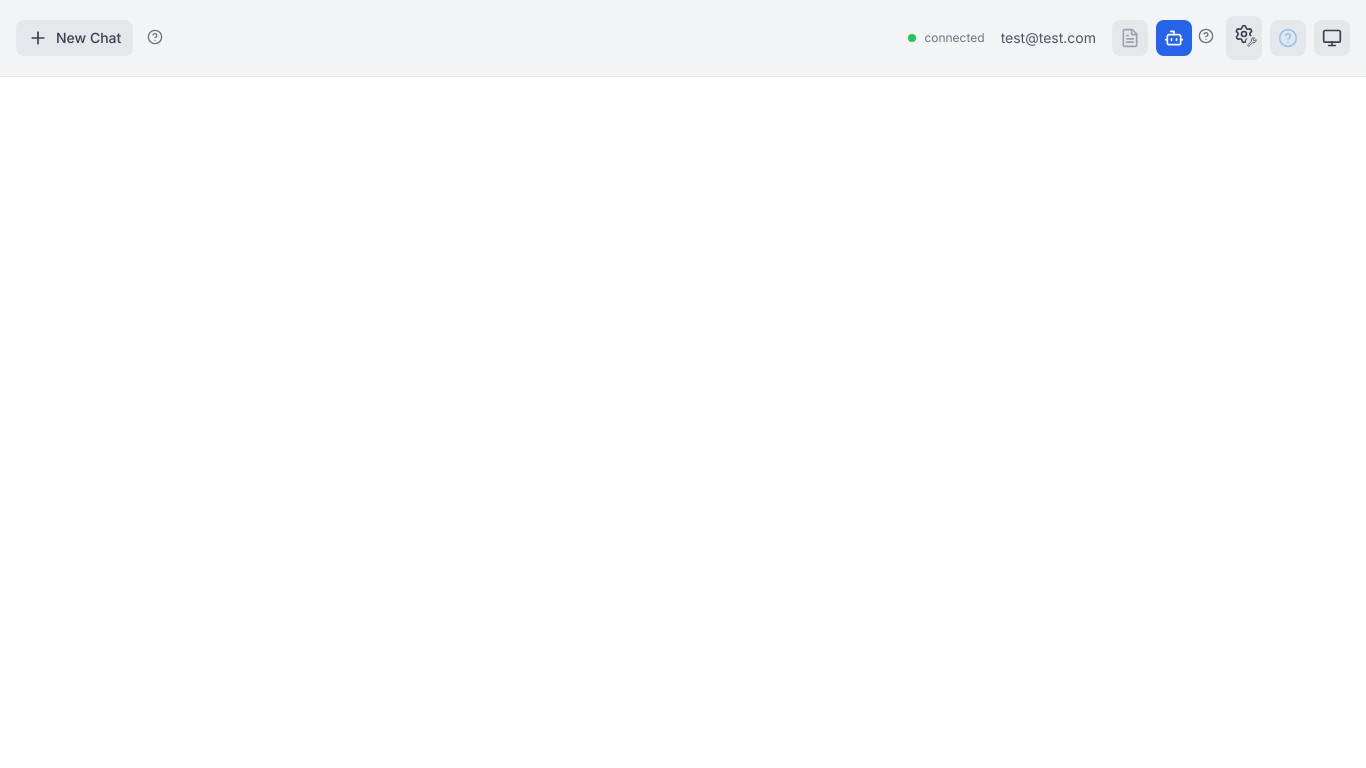
Test: header Agent Mode explanation › opens the plain-language explanation
Click the button named "What Agent Mode does" at coordinates (1206, 36), box x1=1194 y1=24 x2=1218 y2=48
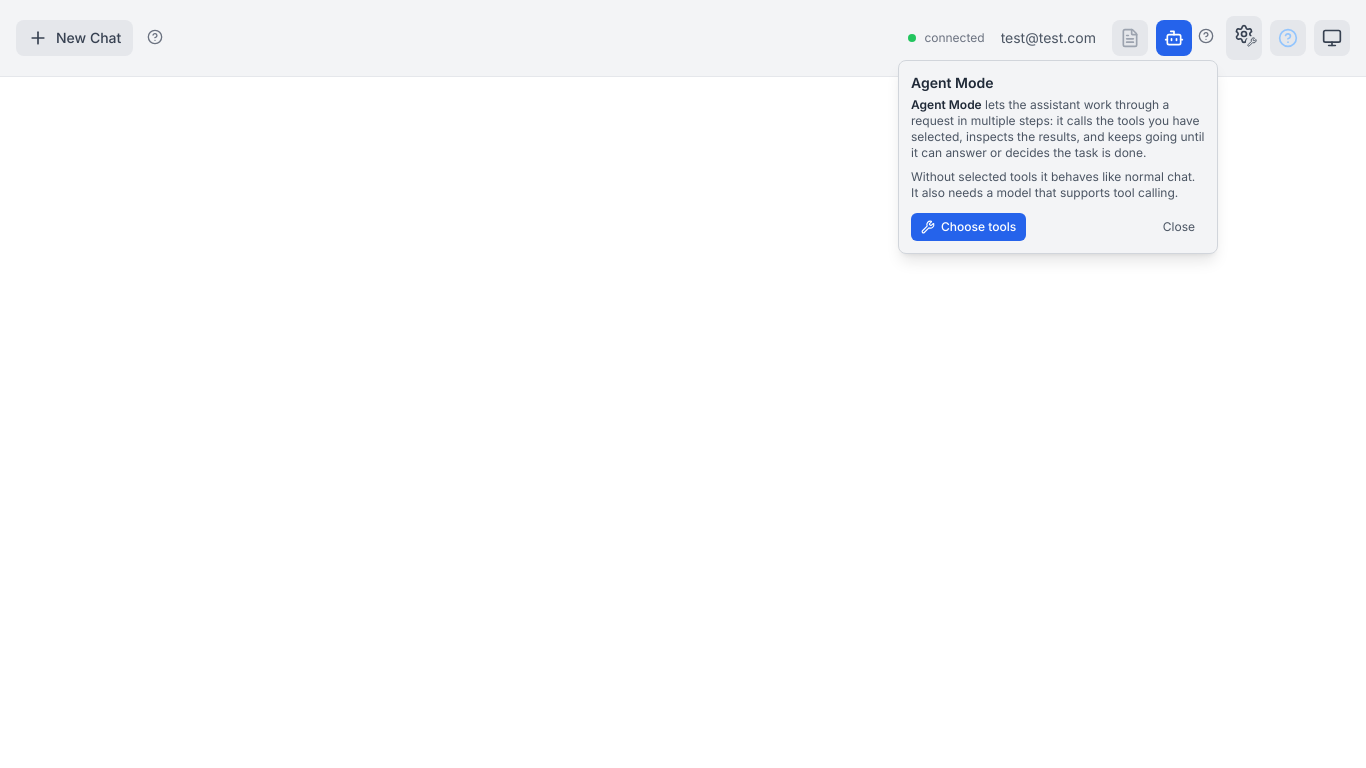
Expected: the dialog named "What Agent Mode does" shows "multiple steps", x1=911 y1=97 x2=1204 y2=160
